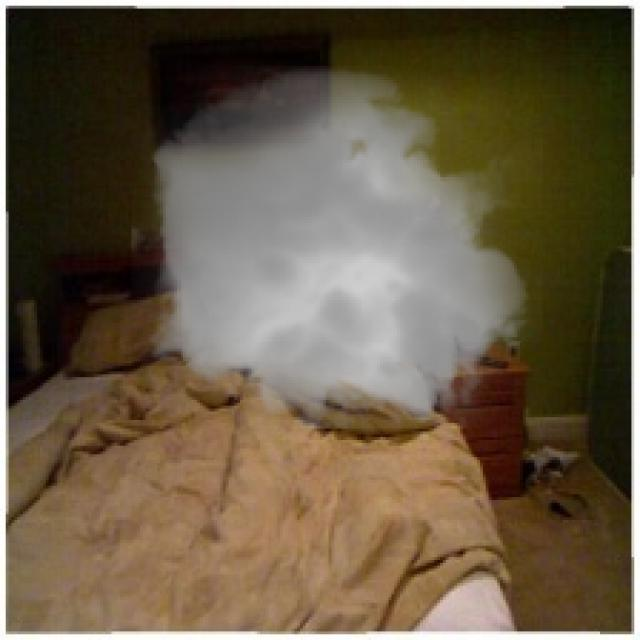smoke: (131, 54, 543, 446)
